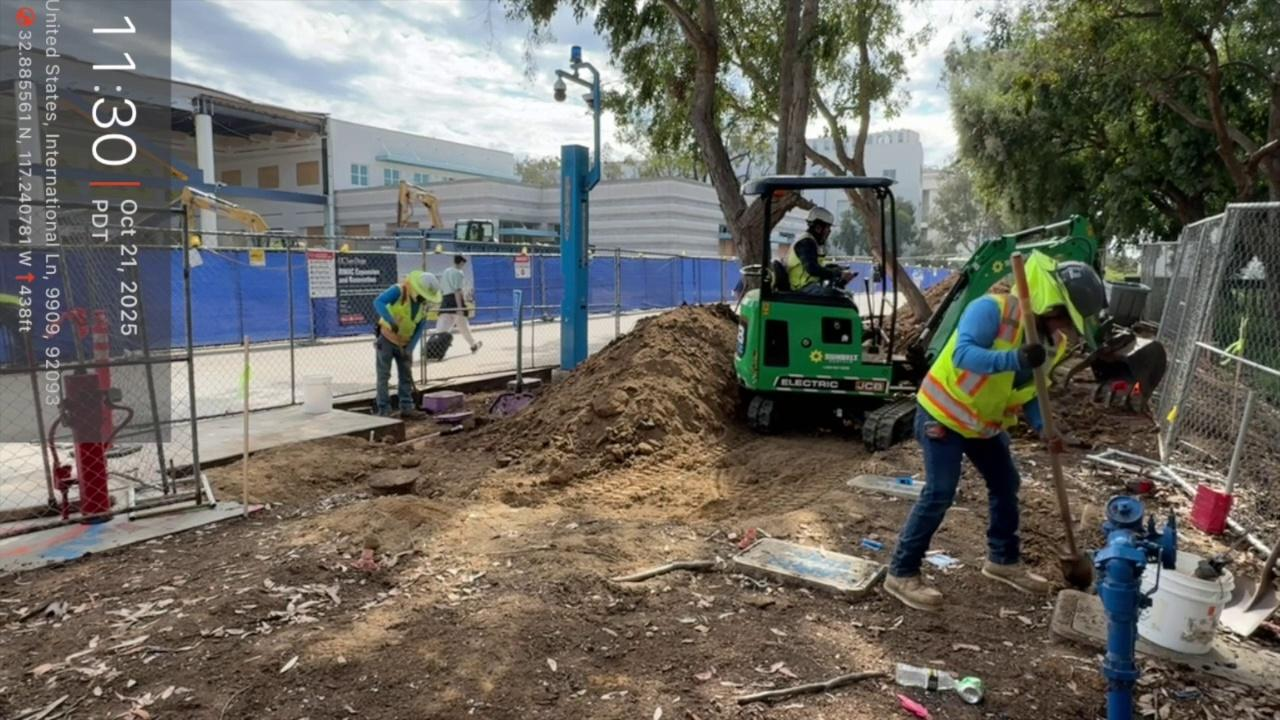Exacavator: (708, 147, 1199, 445)
